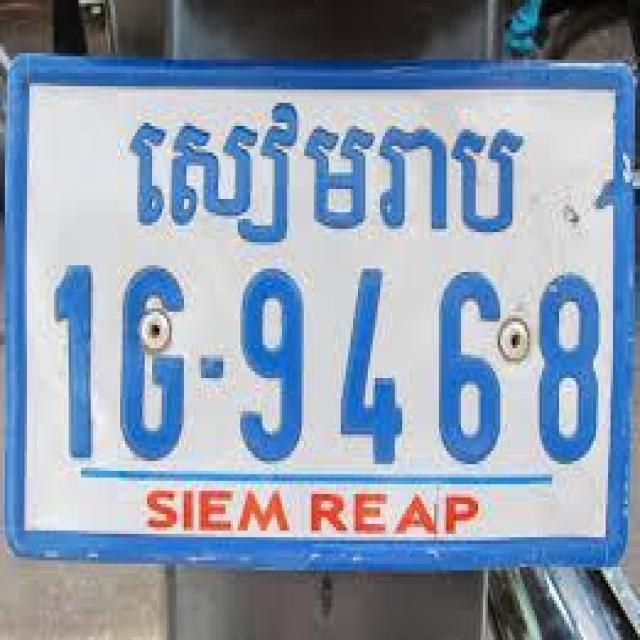Siem_Reap: (125, 96, 528, 262)
